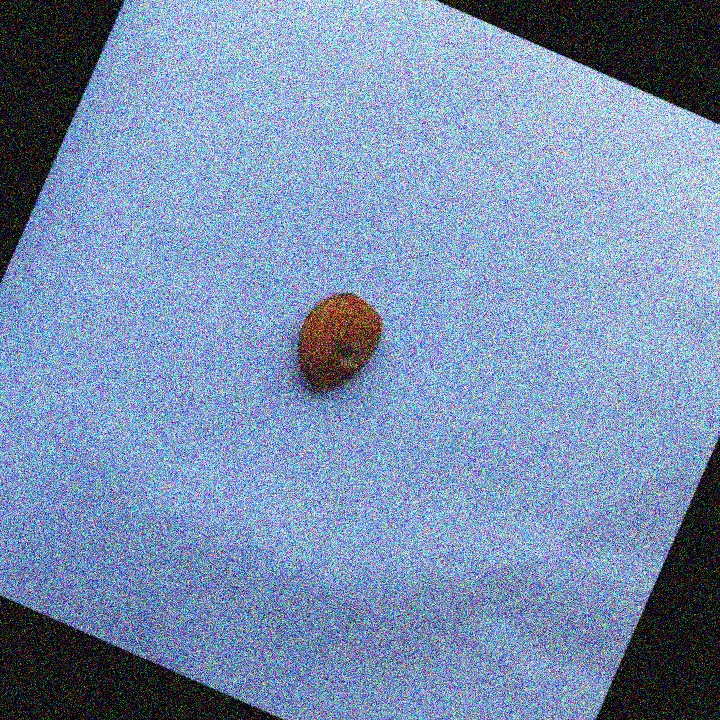grade3: (278, 276, 399, 411)
